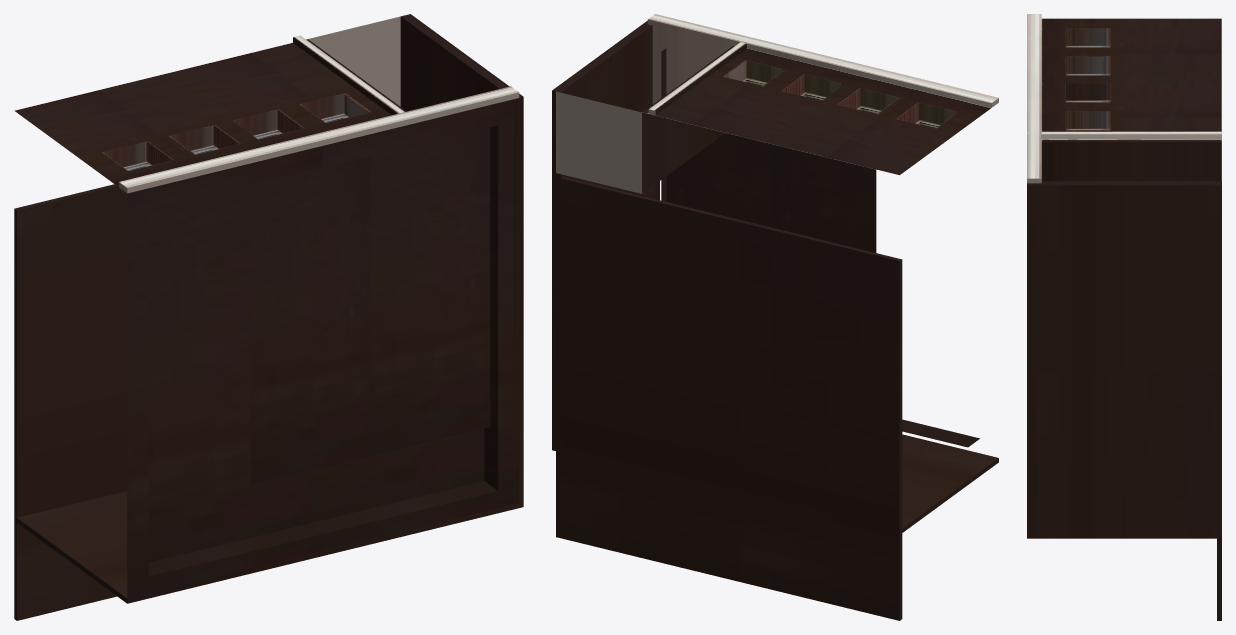
The model's file is yemekhane küçük bina.fbx.
3 views of the same model, side by side, from view 1: azimuth 30°, elevation 25°; view 2: azimuth 150°, elevation 25°; view 3: azimuth 270°, elevation 25° (orthographic). The views are drawn at different scales.
Parts seen in each view (by area): view 1: Plane.006, Plane.007, Cube.006, Plane.001, Cube.005, Cube.003, Cube.004; view 2: Cube.006, Plane.001, Plane.007, Cube.003, Cube.005, Cube.004, Plane.006; view 3: Cube.004, Plane.001, Cube.003, Cube.006.
Part boxes in pixels (x1,y1,x2,y2): Plane.006: (127,98,519,603); Plane.007: (251,127,490,485); Cube.006: (14,184,127,620); Plane.001: (14,16,519,193); Cube.005: (14,491,519,603); Cube.003: (400,15,518,504); Cube.004: (406,14,523,507); Cube.006: (556,176,902,620); Plane.001: (556,14,998,193); Plane.007: (666,133,876,252); Cube.003: (556,24,659,451); Cube.005: (902,434,998,532); Cube.004: (552,21,647,450); Plane.006: (661,48,979,447); Cube.004: (1027,183,1221,538); Plane.001: (1027,14,1221,183); Cube.003: (1041,181,1221,183); Cube.006: (1217,538,1221,620).
Bounding box in the file's own units: 809 × 1002 × 400.
3 materials, 3 textured.
